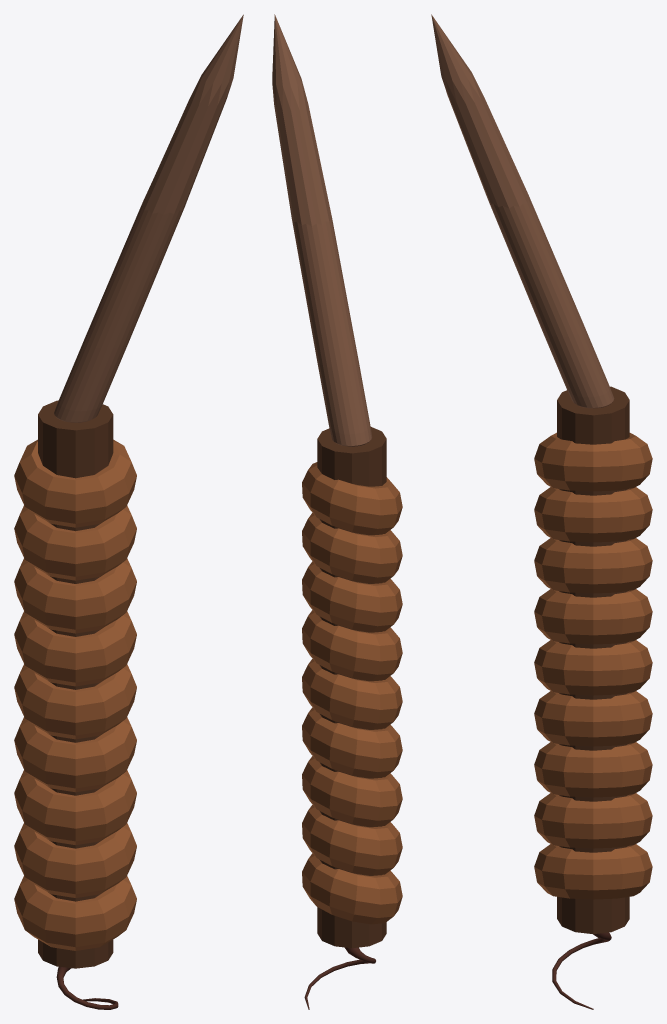
Rendered from Wand 499.glb.
The picture shows the model from 3 angles, left to right: view 1: azimuth 90°, elevation 25°; view 2: azimuth 210°, elevation 25°; view 3: azimuth 270°, elevation 25°; orthographic projection. The views are drawn at different scales.
Visible parts, largest first — view 1: GeneratedWand; view 2: GeneratedWand; view 3: GeneratedWand.
Boxes of the visible parts, x1,y1,x2,y2 form: GeneratedWand: [14, 14, 243, 1009]; GeneratedWand: [272, 14, 402, 1009]; GeneratedWand: [431, 14, 652, 1009].
Size of the model in its own units: 0.0508 by 0.5268 by 0.1085.
